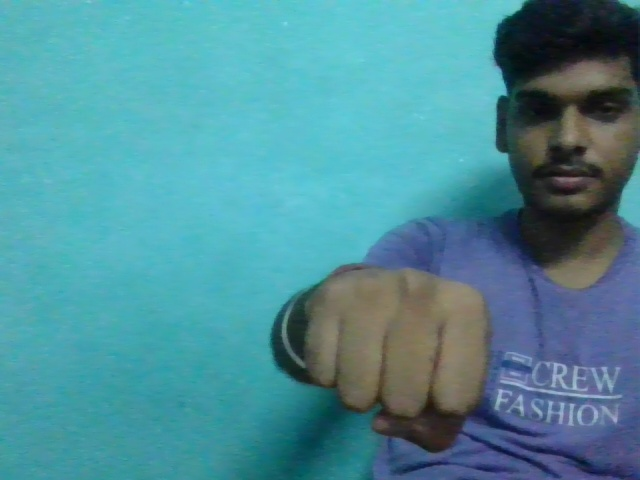yes: (285, 265, 499, 434)
